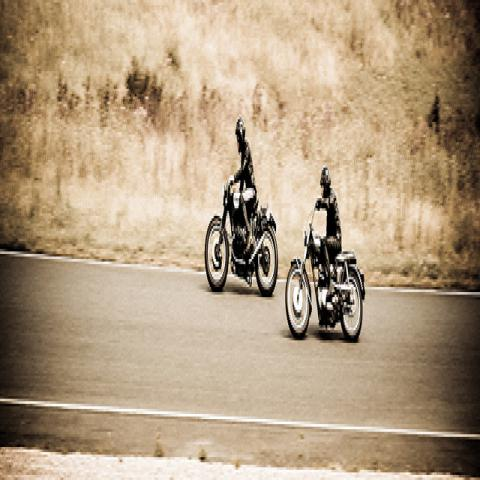motorcycle: (284, 202, 367, 346), (204, 189, 279, 296)
